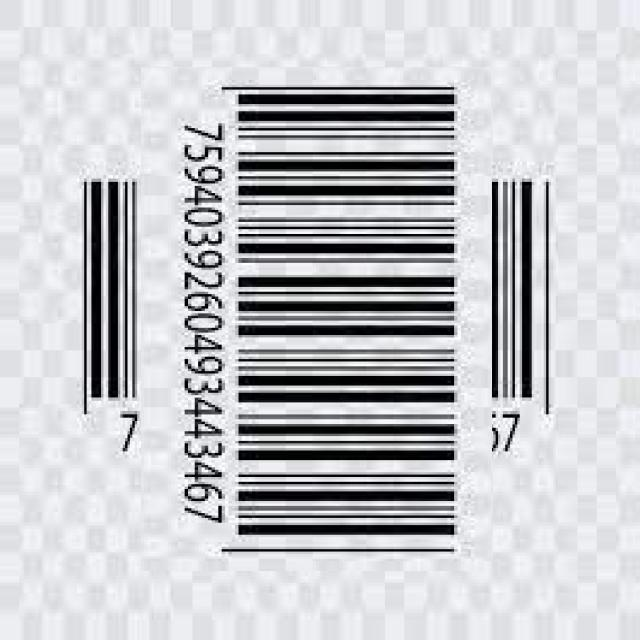Barkod: (102, 105, 530, 533)
